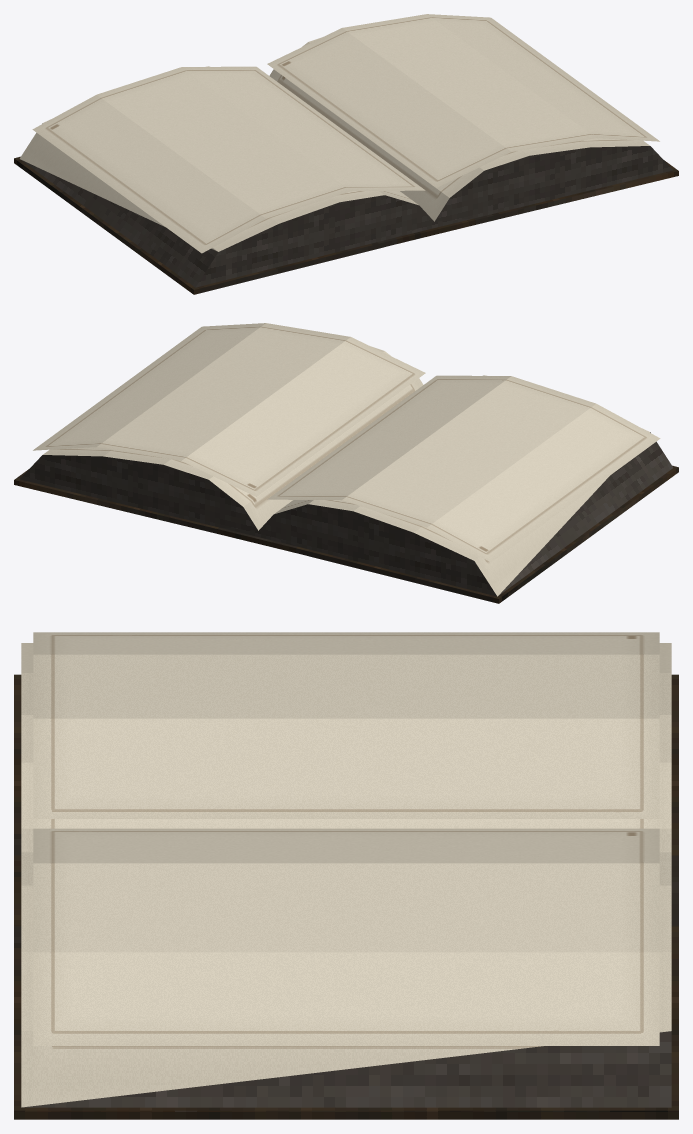
The model's file is blender_ghost_writing_book_2_open.glb.
3 views of the same model, one above another, from view 1: azimuth 30°, elevation 25°; view 2: azimuth 150°, elevation 25°; view 3: azimuth 270°, elevation 25° (orthographic). The views are drawn at different scales.
Parts seen in each view (by area): view 1: blender_ghost_writing_book_2_open; view 2: blender_ghost_writing_book_2_open; view 3: blender_ghost_writing_book_2_open.
Part boxes in pixels (<box>): blender_ghost_writing_book_2_open: <box>14,14,678,294</box>; blender_ghost_writing_book_2_open: <box>14,323,678,603</box>; blender_ghost_writing_book_2_open: <box>14,632,678,1119</box>.
Bounding box in the file's own units: 0.37 × 0.044 × 0.2378.
Materials: 2 (2 with a texture image).
